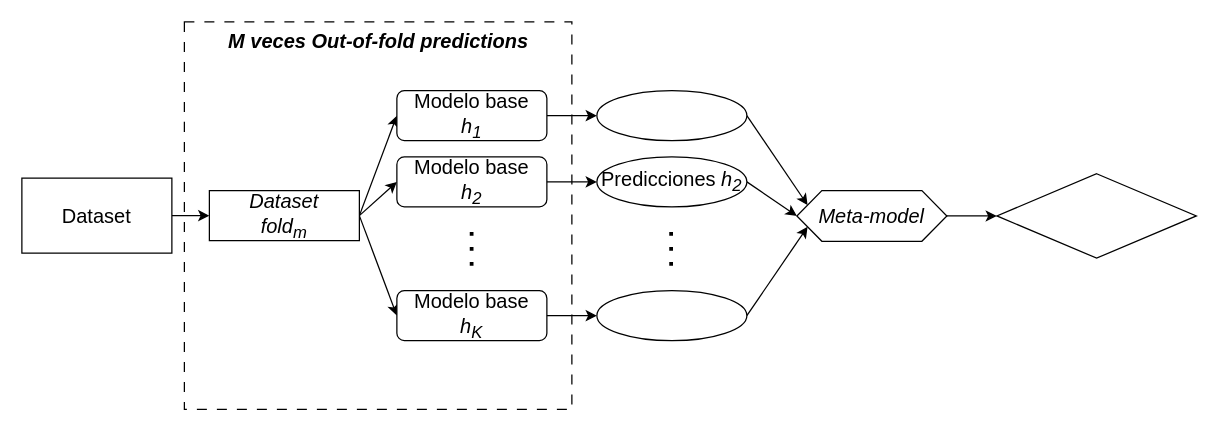
The diagram is 1219 pixels wide and 431 high, and some of its shapes have lost their labels. Each missing label, with the centre of its shape:
Predicciones h 1: the point at 671,115
Predicciones h K: the point at 671,315
Predicción final: the point at 1096,215
